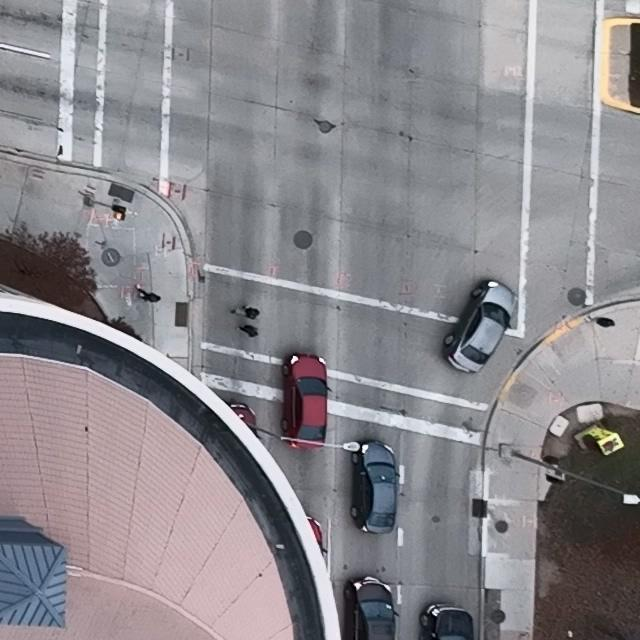car: (443, 281, 518, 375), (282, 353, 333, 448), (350, 439, 400, 535), (343, 577, 401, 640), (419, 604, 476, 640)
